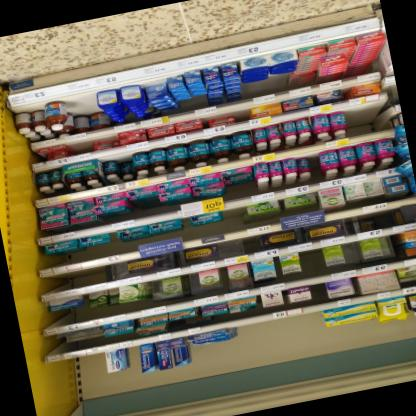empty_space: (234, 308, 324, 351), (51, 350, 105, 384), (219, 233, 258, 257), (76, 262, 109, 286), (361, 99, 384, 131), (47, 269, 77, 292), (348, 207, 387, 222), (300, 247, 323, 271), (345, 103, 362, 135), (221, 205, 243, 229), (72, 138, 90, 155), (236, 107, 249, 121)
